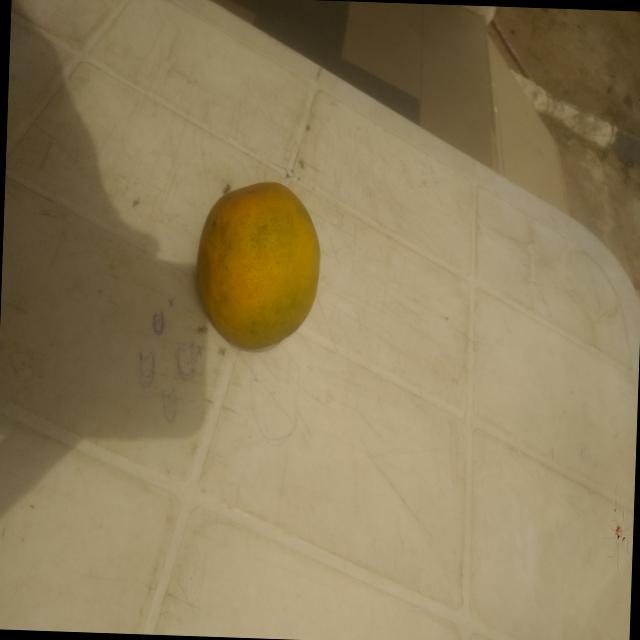Ripe orange: (184, 162, 345, 384)
